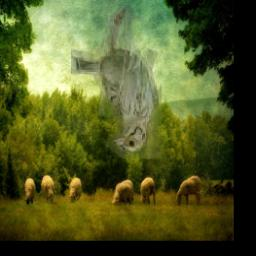Sparrow: (70, 4, 161, 158)
